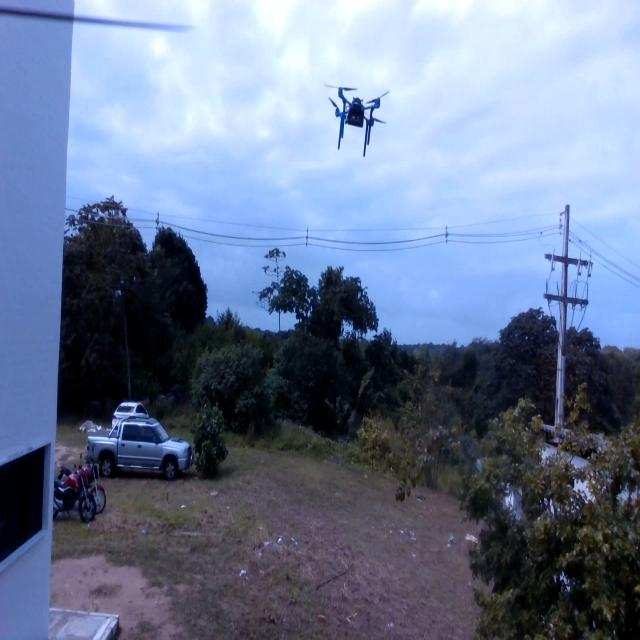-uav-: (316, 70, 394, 166)
